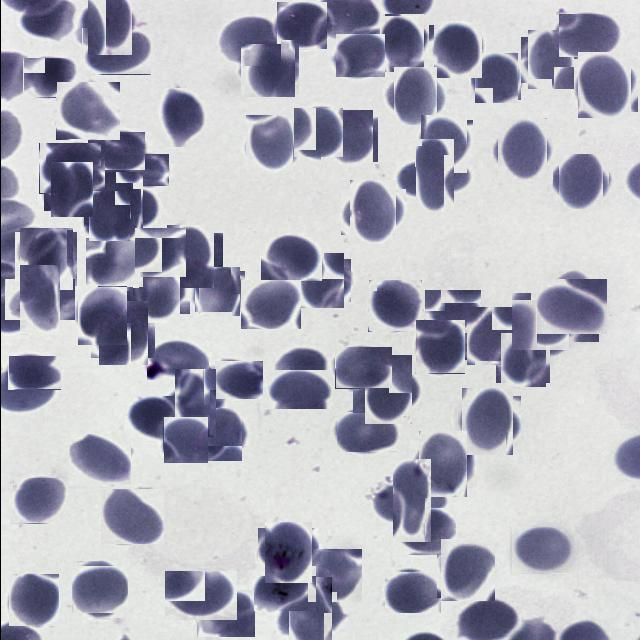red blood cell: (538, 274, 602, 338), (381, 471, 442, 532), (55, 82, 119, 140), (163, 571, 236, 621), (456, 392, 516, 452), (574, 56, 634, 116), (100, 489, 163, 544), (38, 143, 104, 194), (438, 540, 496, 598), (16, 230, 74, 288), (358, 361, 416, 418), (414, 435, 471, 493), (511, 292, 568, 350), (215, 16, 280, 66), (127, 262, 184, 319), (94, 304, 150, 362), (81, 28, 150, 75), (279, 586, 339, 640), (68, 434, 130, 486), (493, 121, 550, 177), (344, 184, 400, 240), (406, 148, 462, 204), (162, 228, 218, 284), (92, 178, 148, 234), (11, 272, 67, 328), (156, 88, 209, 147), (509, 527, 574, 574), (166, 376, 222, 430), (240, 278, 300, 328), (394, 508, 456, 556), (250, 566, 316, 611), (558, 14, 626, 57), (242, 42, 296, 96), (75, 288, 129, 342), (260, 525, 314, 579), (84, 238, 142, 288), (430, 23, 483, 76), (308, 549, 361, 602), (368, 280, 422, 332), (462, 310, 516, 362), (242, 118, 296, 170), (82, 0, 136, 52), (260, 235, 321, 281), (416, 118, 469, 170), (196, 590, 254, 637), (524, 34, 576, 86), (72, 564, 124, 616), (322, 112, 374, 164), (414, 320, 464, 374), (336, 412, 402, 452), (389, 71, 440, 122), (8, 574, 58, 626), (133, 228, 185, 278), (126, 396, 182, 442), (376, 17, 426, 68), (10, 478, 65, 524), (423, 290, 480, 334), (555, 157, 605, 207), (297, 256, 347, 306), (497, 335, 547, 385), (292, 108, 342, 158), (268, 370, 332, 409), (146, 340, 208, 380), (194, 409, 244, 458), (46, 165, 95, 214), (334, 347, 391, 389), (384, 570, 440, 612), (276, 2, 326, 49), (472, 54, 519, 102), (334, 34, 384, 78), (100, 154, 168, 186), (87, 132, 144, 170), (86, 193, 132, 240), (22, 58, 76, 98), (196, 268, 242, 314), (162, 417, 207, 464), (213, 361, 262, 400), (276, 348, 326, 386), (7, 356, 60, 390)
